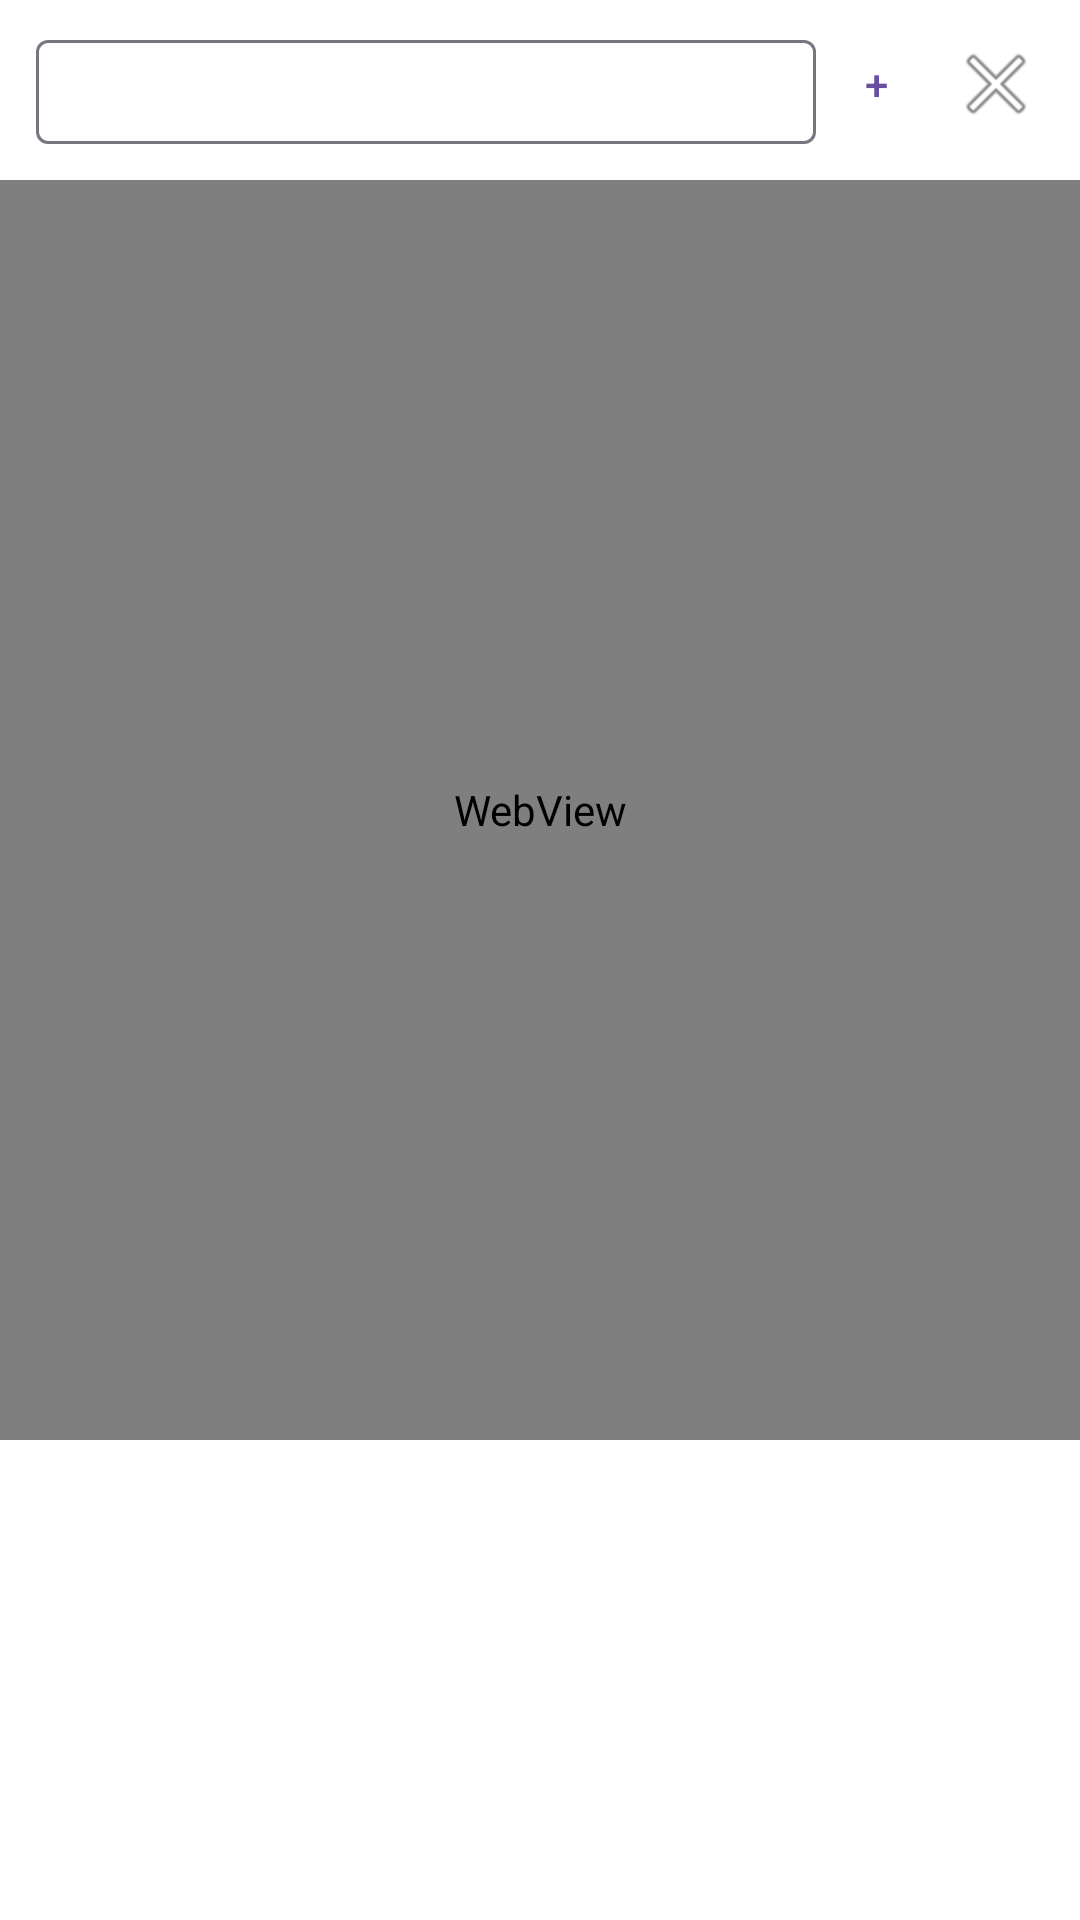

Icon bounding boxes for this 1080×1920 phone screenshot, format (x1, y1, x2, y2):
close: (966, 54, 1026, 114)
